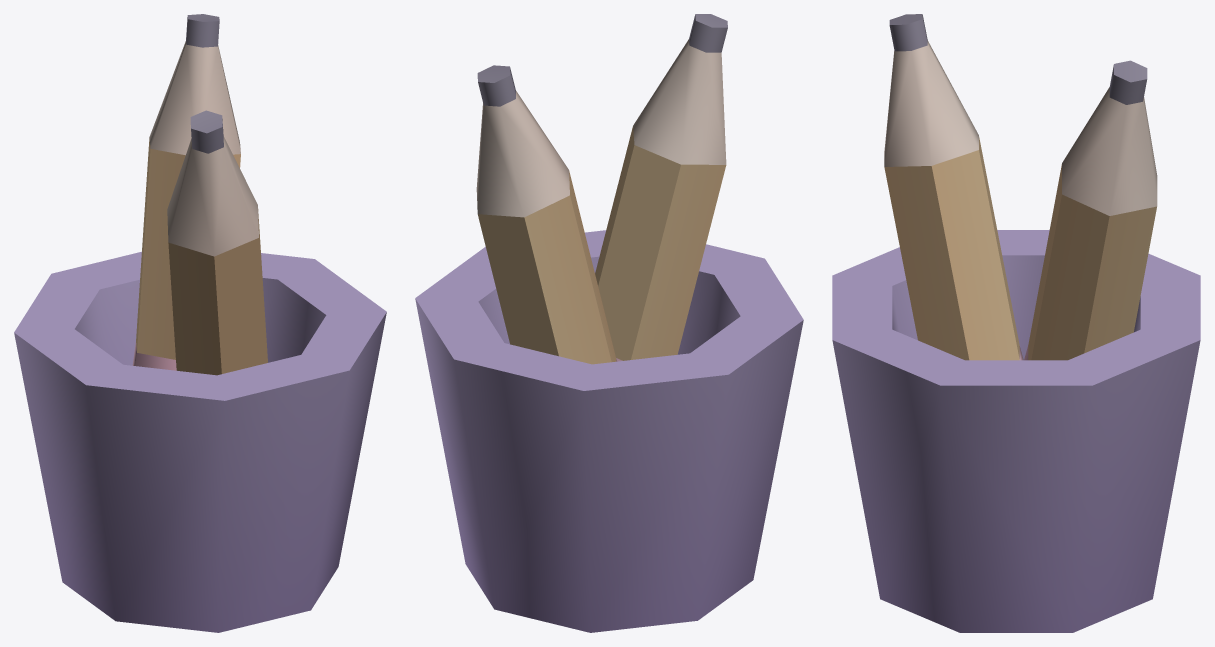
File: pencil-basket_0.glb
3 views of the same model, side by side, from view 1: azimuth 30°, elevation 25°; view 2: azimuth 150°, elevation 25°; view 3: azimuth 270°, elevation 25° (orthographic). The views are drawn at different scales.
Visible parts, largest first — view 1: pencil-basket; view 2: pencil-basket; view 3: pencil-basket.
Boxes of the visible parts, bbox=[...] form: pencil-basket: bbox=[14, 14, 386, 632]; pencil-basket: bbox=[415, 14, 803, 632]; pencil-basket: bbox=[832, 14, 1200, 632].
Size of the model in its own units: 0.1871 by 0.301 by 0.1871.
